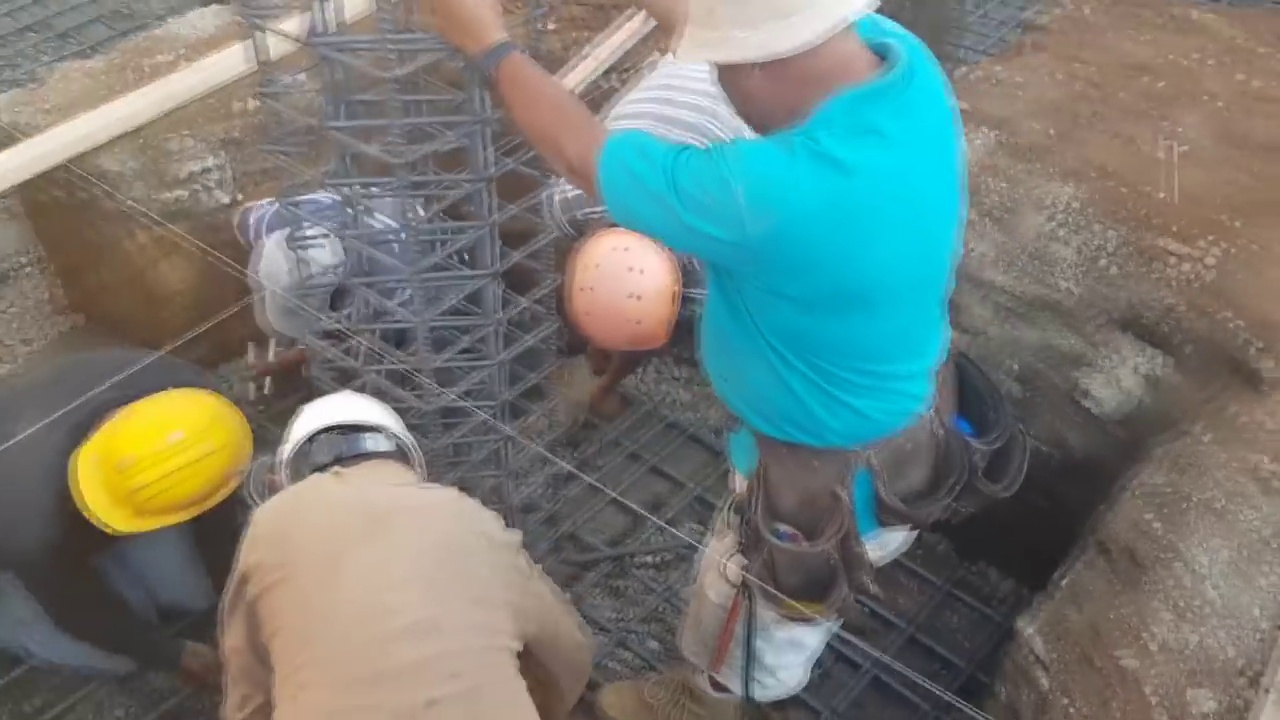helmet: (73, 391, 248, 558), (260, 395, 435, 492), (564, 231, 686, 350)
helmet-off: (696, 0, 884, 148), (253, 225, 348, 345)
helmet-on: (61, 383, 254, 568), (261, 393, 440, 520)
person: (424, 1, 1027, 683), (214, 389, 595, 719), (2, 349, 258, 714), (537, 3, 759, 363), (231, 191, 477, 366)
